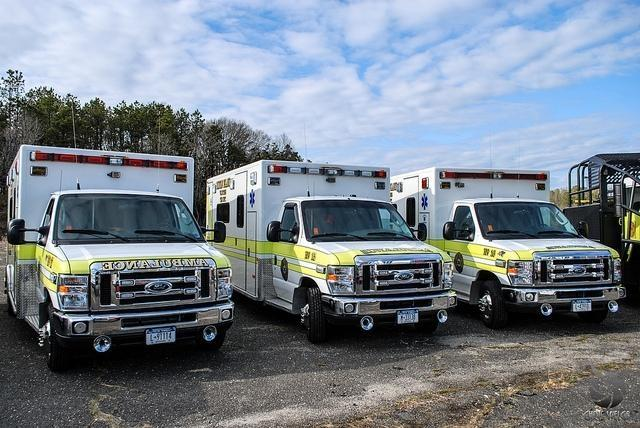truck: (3, 146, 234, 372), (206, 159, 456, 342), (391, 164, 628, 332), (562, 156, 640, 304)
